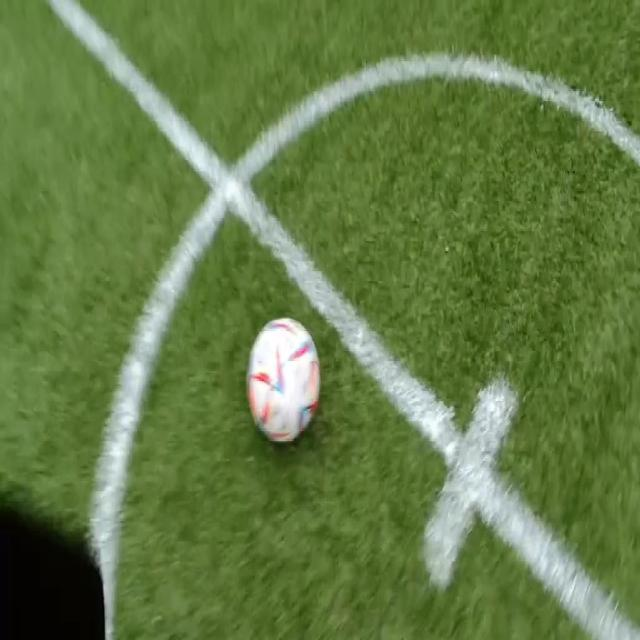ball: (246, 318, 320, 443)
